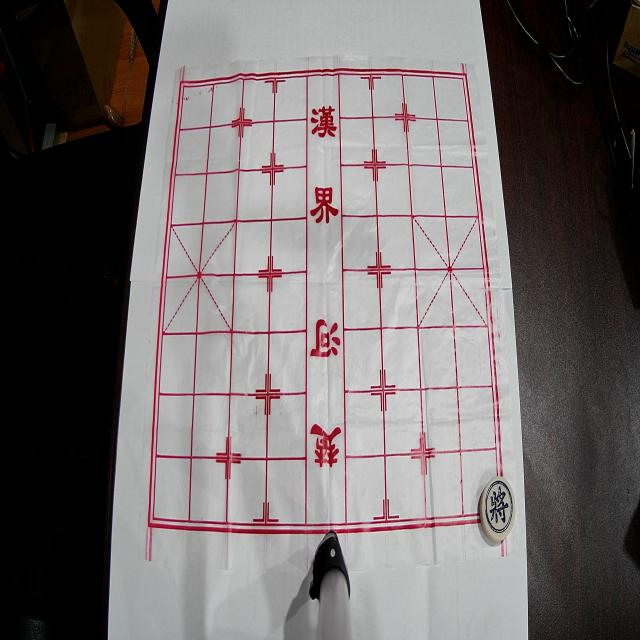black-general: (480, 477, 516, 542)
